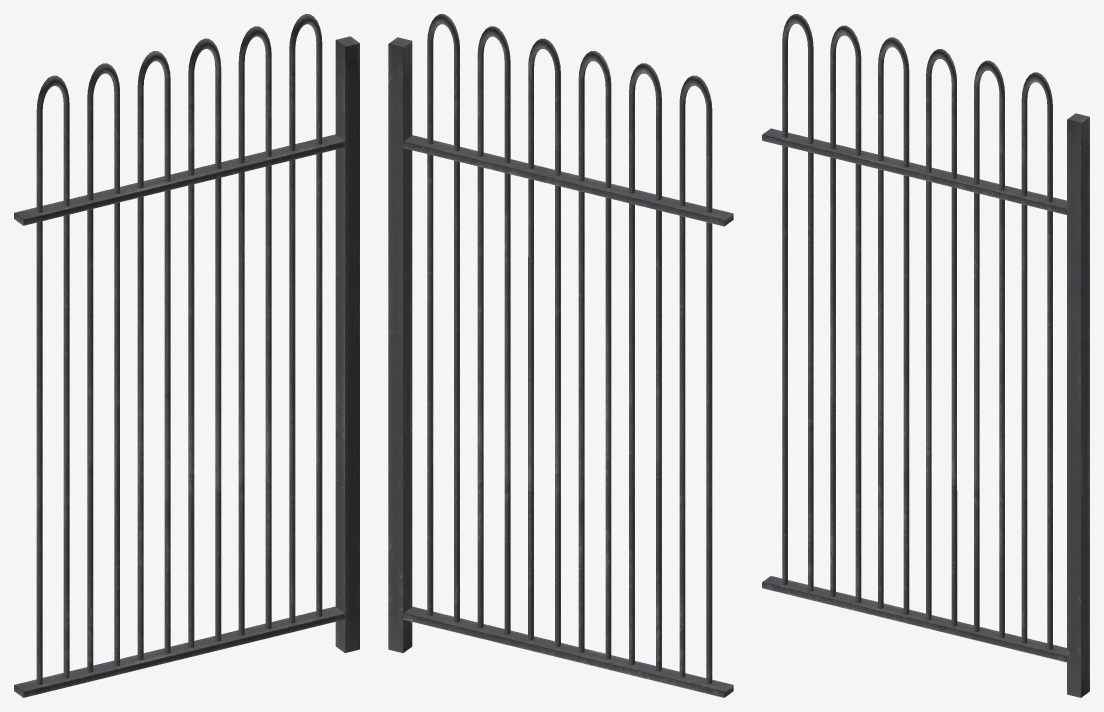
File: Reja1.obj
3 renders of one model, left to right at view 1: azimuth 30°, elevation 25°; view 2: azimuth 150°, elevation 25°; view 3: azimuth 330°, elevation 25°, orthographic. The views are drawn at different scales.
Parts seen in each view (by area): view 1: modular_grid; view 2: modular_grid; view 3: modular_grid.
Boxes of the visible parts, <box> form: modular_grid: <box>14,14,359,697</box>; modular_grid: <box>388,14,733,697</box>; modular_grid: <box>762,14,1089,697</box>.
Bounding box in the file's own units: 5.2 × 9.51 × 0.25.
Materials: 1 (1 with a texture image).
